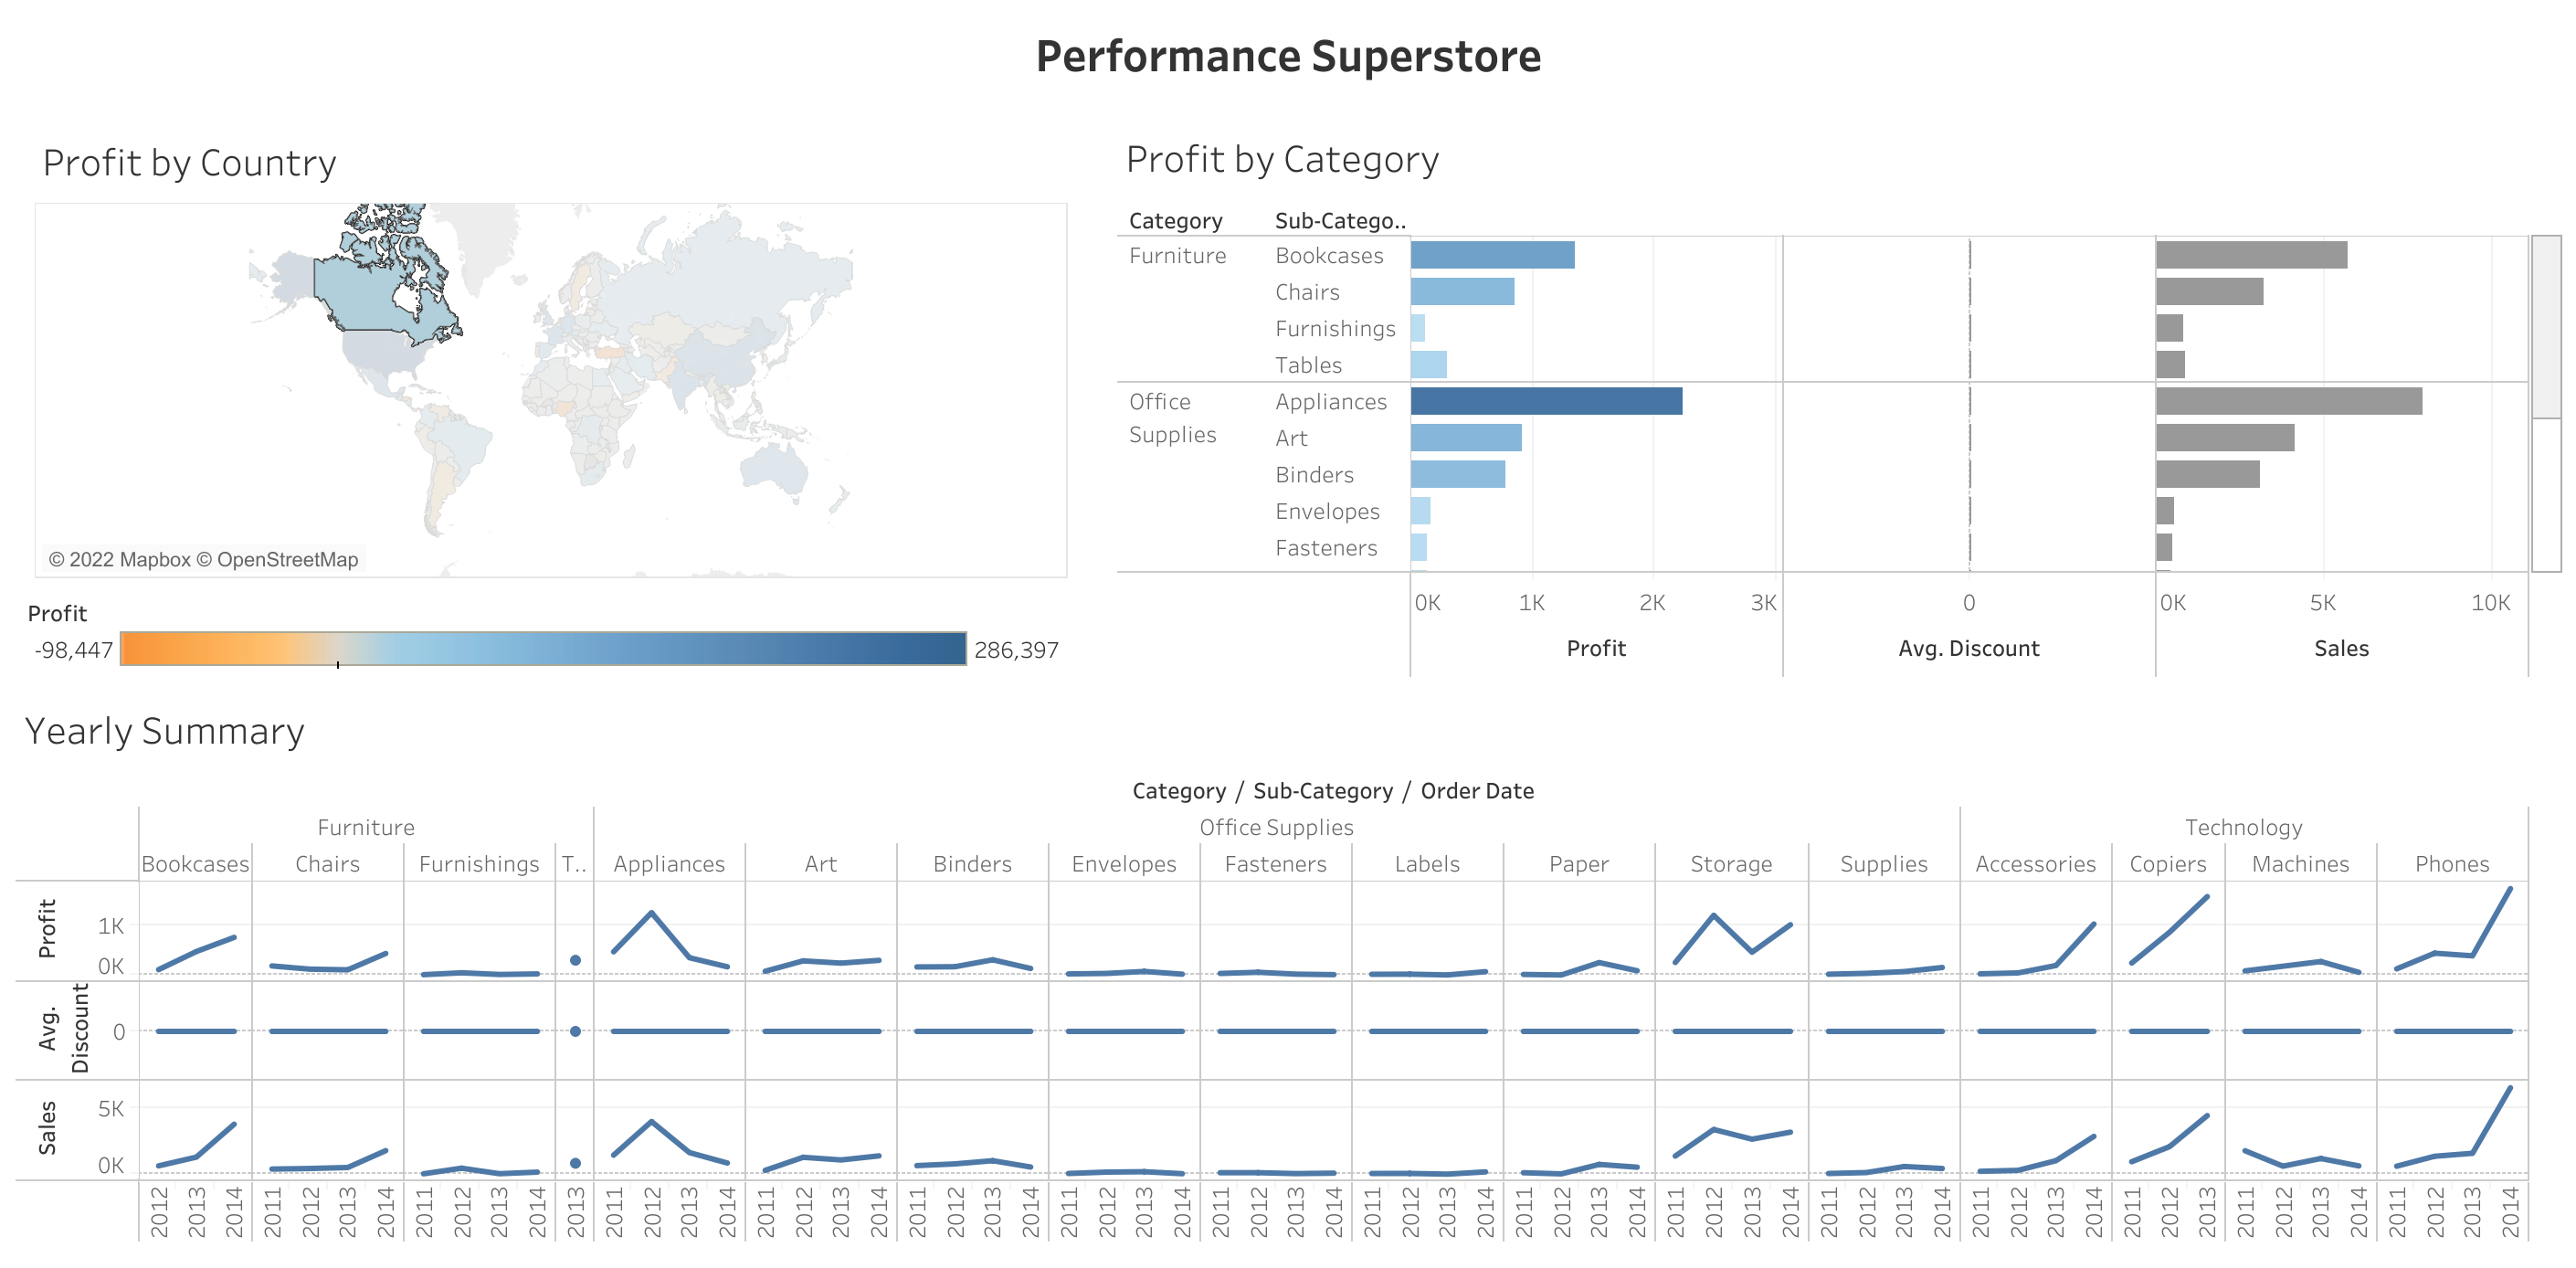

The dashboard page shown, as its layout file describes it:
{"tool":"tableau","page":{"name":"Performance Superstore","canvas":[1000,1000],"units":"permille","ordinal":0},"visuals":[{"type":"title","box":[6.4,11.8,987.1,62.2]},{"type":"worksheet","title":"Profit by Category","mark":"Automatic","rows":["Category","Sub-Category"],"cols":["Profit","Discount","Sales"],"box":[434.1,94.8,560.3,438.5]},{"type":"worksheet","title":"Profit by Country","mark":"Automatic","box":[13.7,97.8,401.1,358.5]},{"type":"legend","title":"Profit by Country","param":"[federated.1neqhws1e5quay1ex0f0g022ceit].[sum:Profit:qk]","box":[10.5,463.7,404.3,71.1]},{"type":"worksheet","title":"Yearly Summary","mark":"Automatic","rows":["Profit","Discount","Sales"],"cols":["Category","Sub-Category","Order Date"],"box":[6.4,545.2,975.1,432.6]}]}

Visuals, with their boxes on the dashboard's canvas, which has no fixed pixel size, in thousandths of its width and height (x1, y1, x2, y2). These are canvas units, not pixel positions in the 2576x1268 screenshot, which may show the page scaled, cropped or inside an application window:
title: x1=6 y1=12 x2=994 y2=74
"Profit by Category" worksheet: x1=434 y1=95 x2=994 y2=533
"Profit by Country" worksheet: x1=14 y1=98 x2=415 y2=456
"Profit by Country" legend: x1=10 y1=464 x2=415 y2=535
"Yearly Summary" worksheet: x1=6 y1=545 x2=982 y2=978
